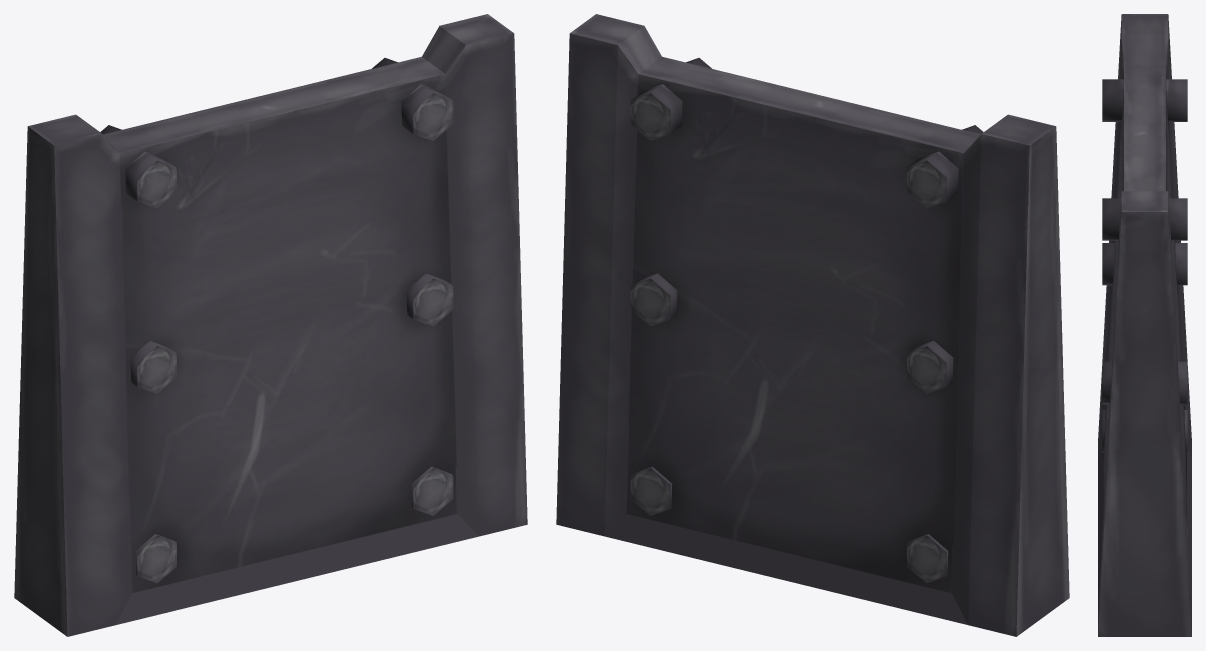
File: wallcover01.fbx
3 renders of one model, left to right at view 1: azimuth 30°, elevation 25°; view 2: azimuth 150°, elevation 25°; view 3: azimuth 270°, elevation 25°, orthographic. The views are drawn at different scales.
Parts seen in each view (by area): view 1: Cube; view 2: Cube; view 3: Cube.
Boxes of the visible parts, x1,y1,x2,y2 form: Cube: (14, 14, 527, 636); Cube: (556, 14, 1069, 636); Cube: (1098, 14, 1191, 636).
Bounding box in the file's own units: 1 × 1 × 0.2.
Materials: 1 (1 with a texture image).
